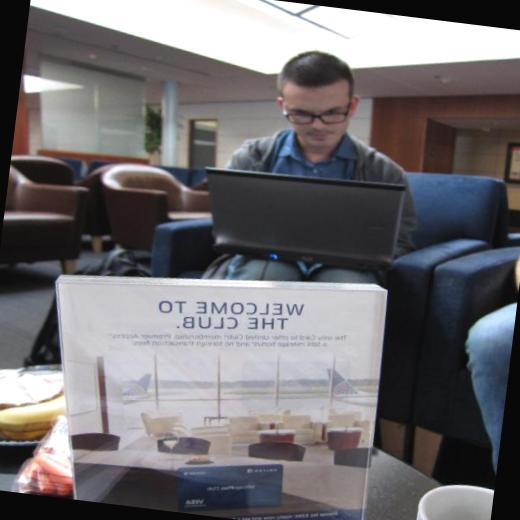Banana: (0, 386, 71, 437)
